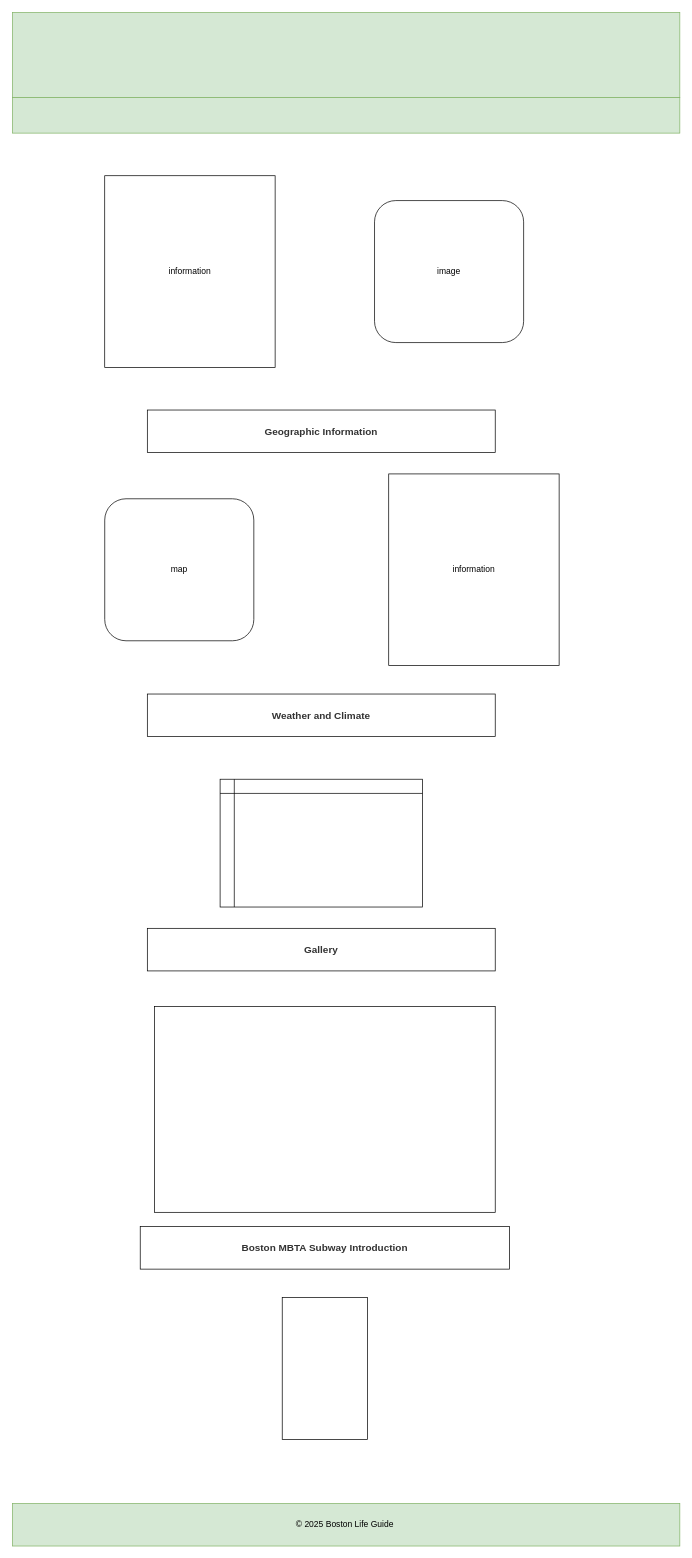
Some shapes in this 692 by 1558 pixel diagram are drawn without their labels. Each missing label, with the centre of its shape:
"8 images" goes at (324,1109).
"Boston Life Guide (Logo + Title)" goes at (346,55).
"Home | About | Supermarkets | Tips | Contact |" goes at (346,115).
